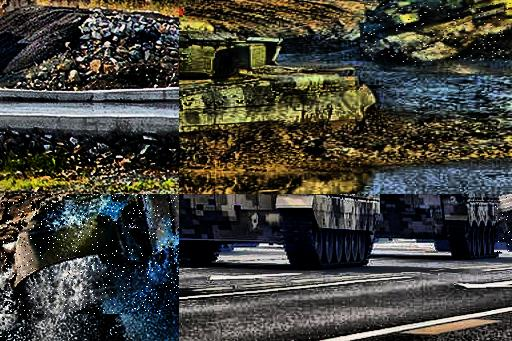tanks: (180, 22, 375, 134), (1, 195, 180, 294), (180, 195, 381, 270), (362, 1, 511, 63), (379, 195, 509, 260)
